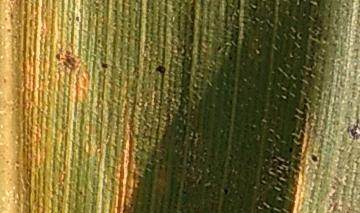tarspot: (62, 48, 77, 71), (348, 116, 360, 140), (155, 64, 166, 75), (309, 153, 318, 163), (100, 60, 108, 69), (222, 186, 228, 196), (8, 12, 14, 21), (288, 145, 293, 155), (74, 15, 80, 23), (95, 37, 101, 45), (55, 53, 61, 61), (216, 45, 222, 52), (5, 27, 12, 33), (78, 189, 83, 197), (3, 16, 9, 22), (145, 198, 152, 203), (128, 202, 133, 208), (129, 193, 134, 197)
